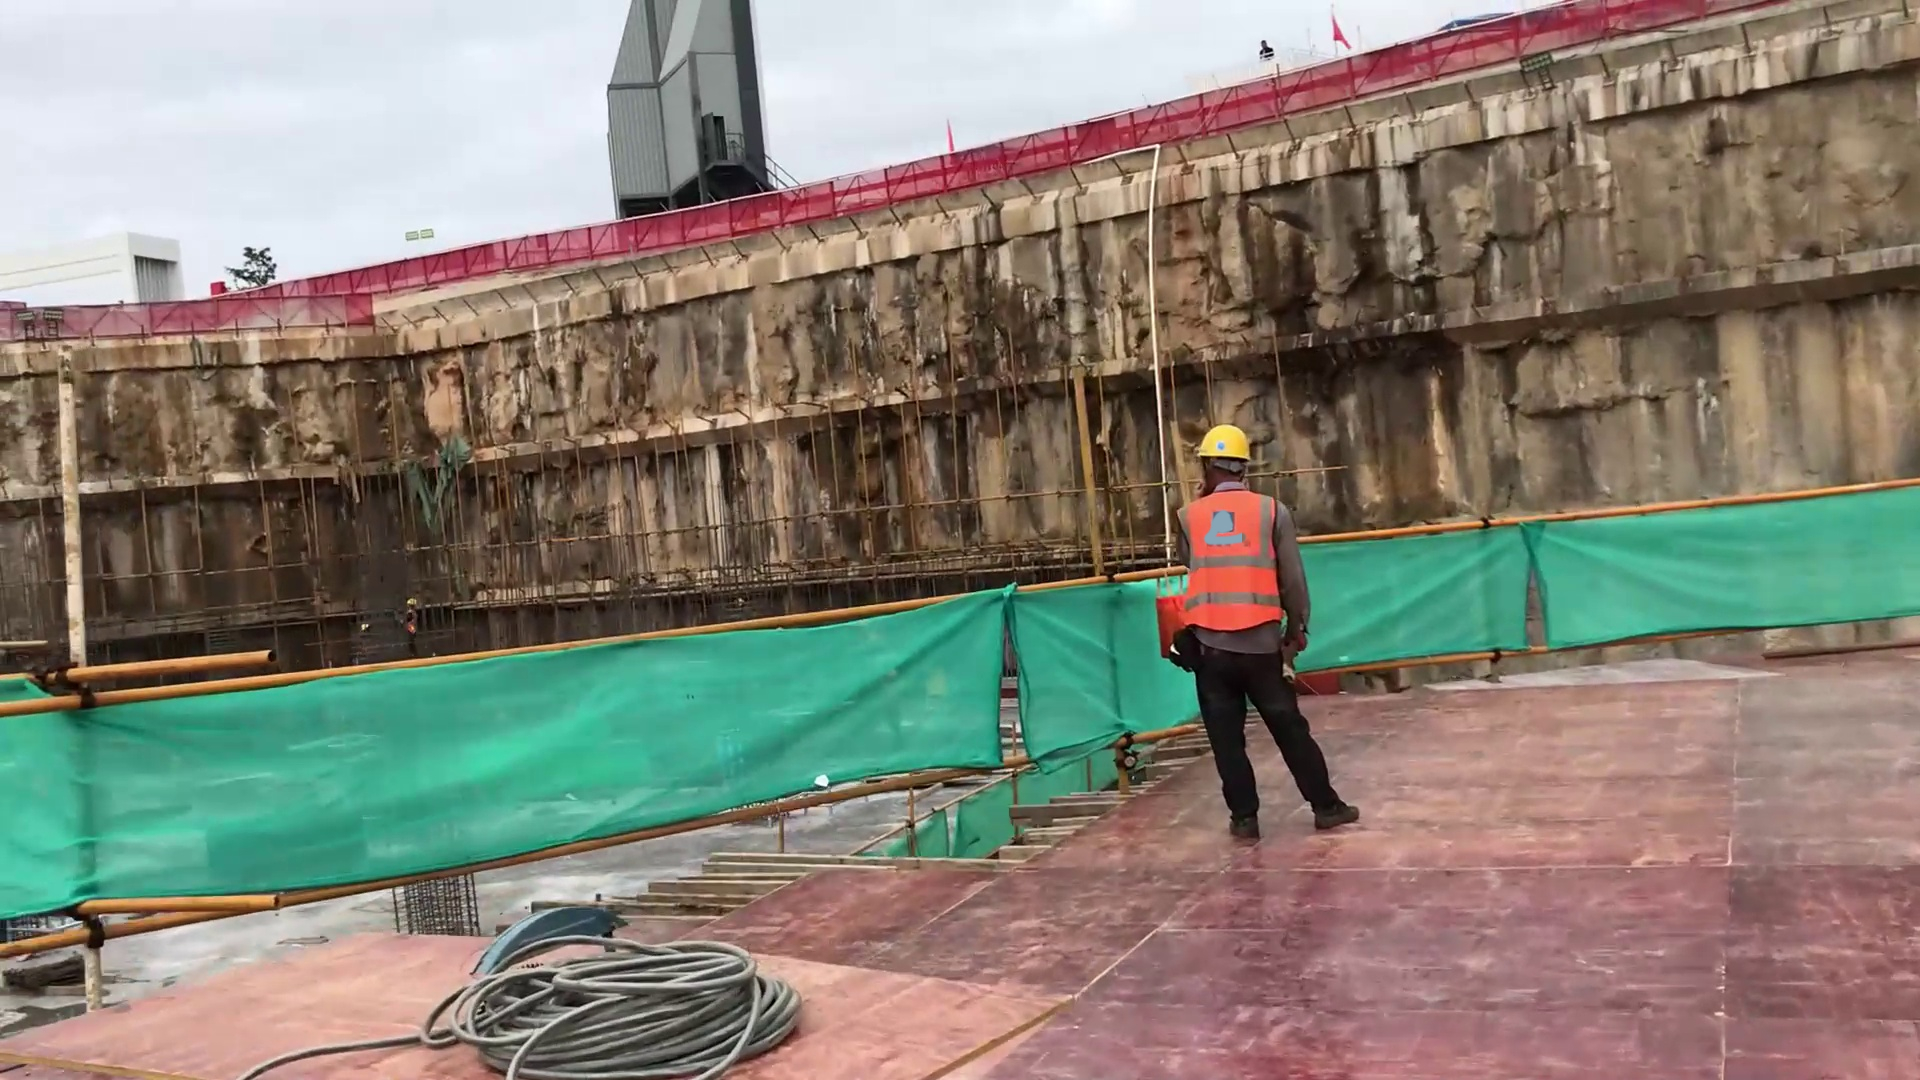helmet: (1196, 423, 1253, 466)
person: (1154, 417, 1380, 846)
vest: (1180, 481, 1289, 641)
